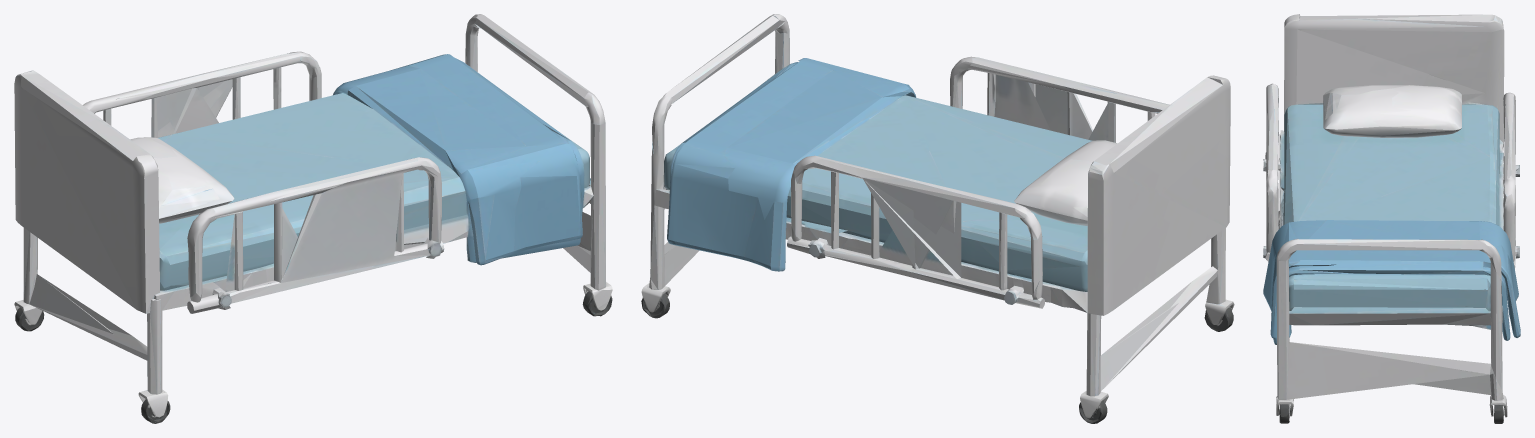
The model's file is bed.glb.
3 views of the same model, side by side, from view 1: azimuth 30°, elevation 25°; view 2: azimuth 150°, elevation 25°; view 3: azimuth 270°, elevation 25° (orthographic). The views are drawn at different scales.
Bounding box in the file's own units: 1.9 × 1.02 × 1.07.
1 material, 1 textured.
